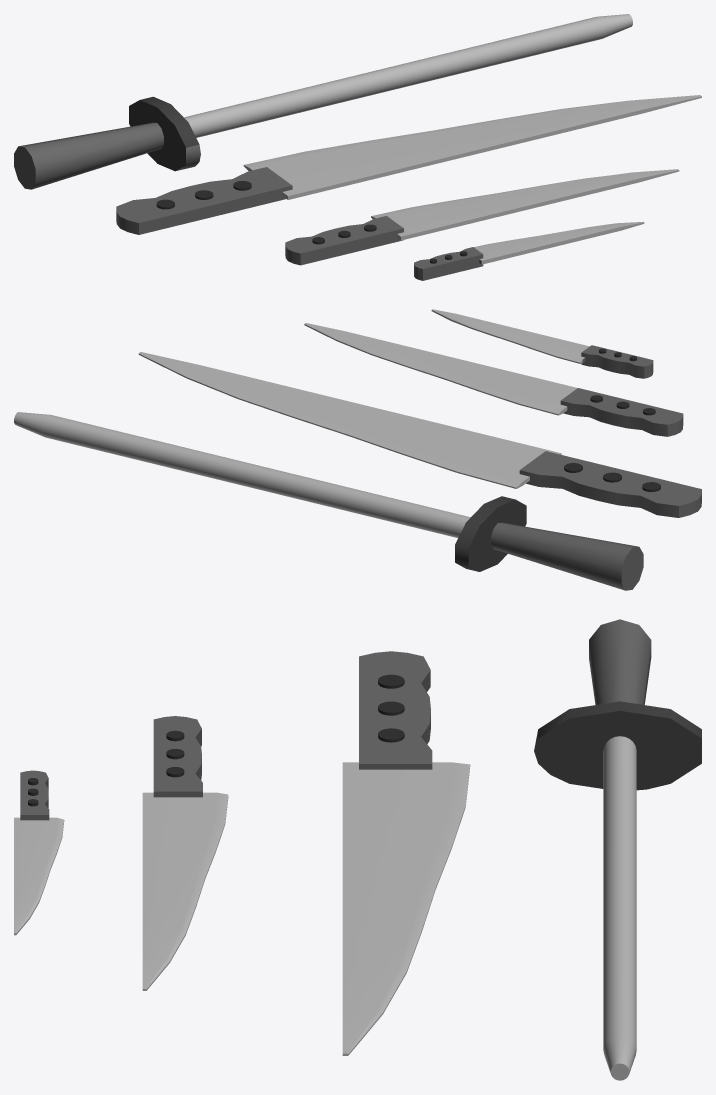
Rendered from KnivesSetModel.fbx.
3 renders of one model, top to bottom at view 1: azimuth 30°, elevation 25°; view 2: azimuth 150°, elevation 25°; view 3: azimuth 270°, elevation 25°, orthographic. The views are drawn at different scales.
Parts seen in each view (by area): view 1: KnivesSetModel; view 2: KnivesSetModel; view 3: KnivesSetModel.
Boxes of the visible parts, x1,y1,x2,y2 form: KnivesSetModel: [14, 14, 701, 280]; KnivesSetModel: [14, 309, 701, 590]; KnivesSetModel: [14, 619, 701, 1080].
Size of the model in its own units: 108 by 9.62 by 74.25.
